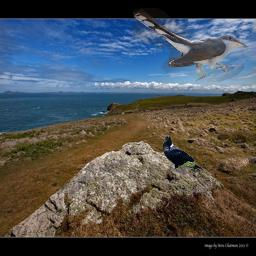Crow: (162, 135, 204, 173)
Cuckoo: (133, 8, 249, 82)
